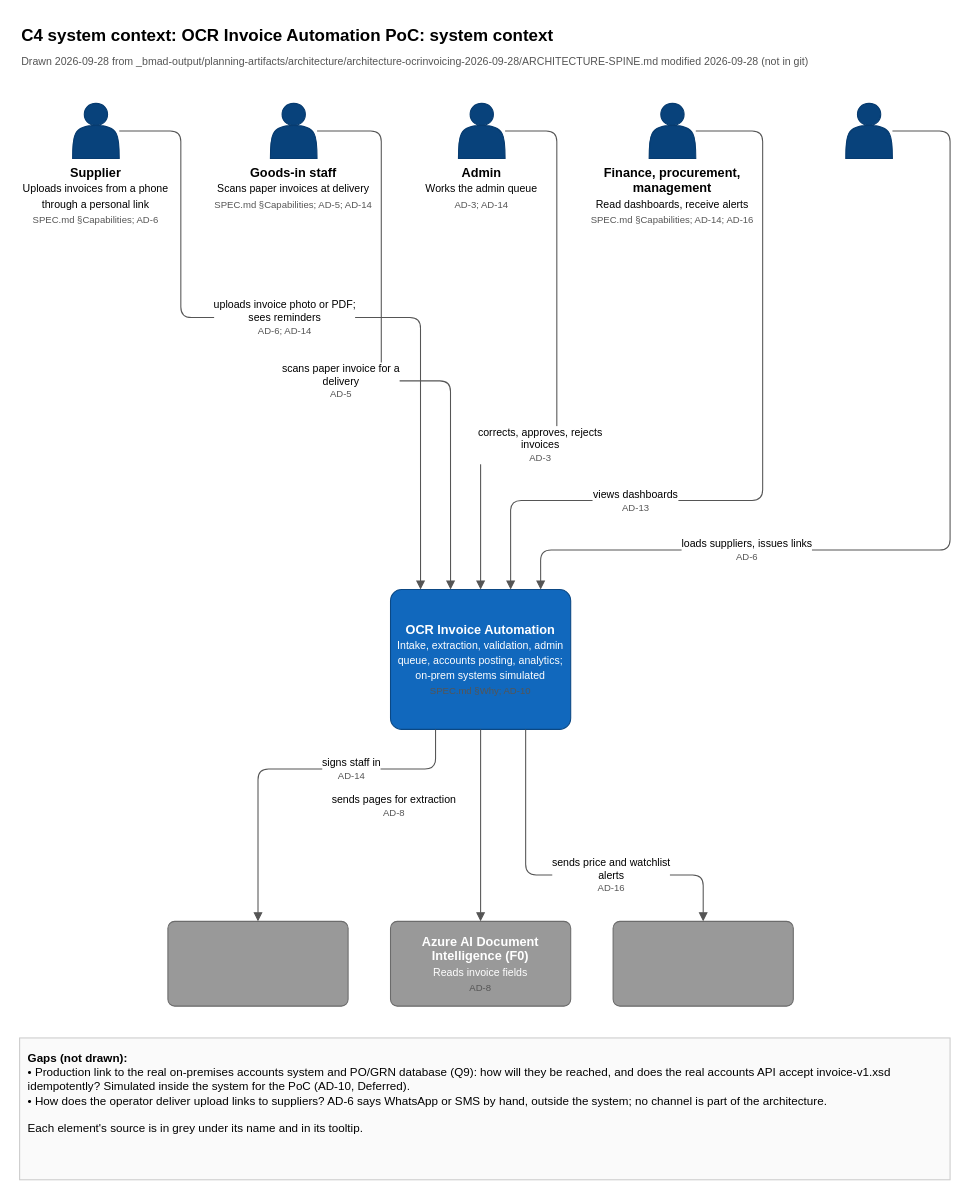
This 977x1198 diagram has some shape labels left out. Here are the shapes that lost their labels. From the top down, the box of each, then its label:
(845, 102, 892, 158): Operator (Dj) Loads suppliers, issues and revokes links AD-6
(167, 920, 348, 1006): Microsoft Entra ID Staff sign-in, app roles AD-14
(612, 920, 793, 1006): Azure Communication Services Email Sends staff alerts AD-16
